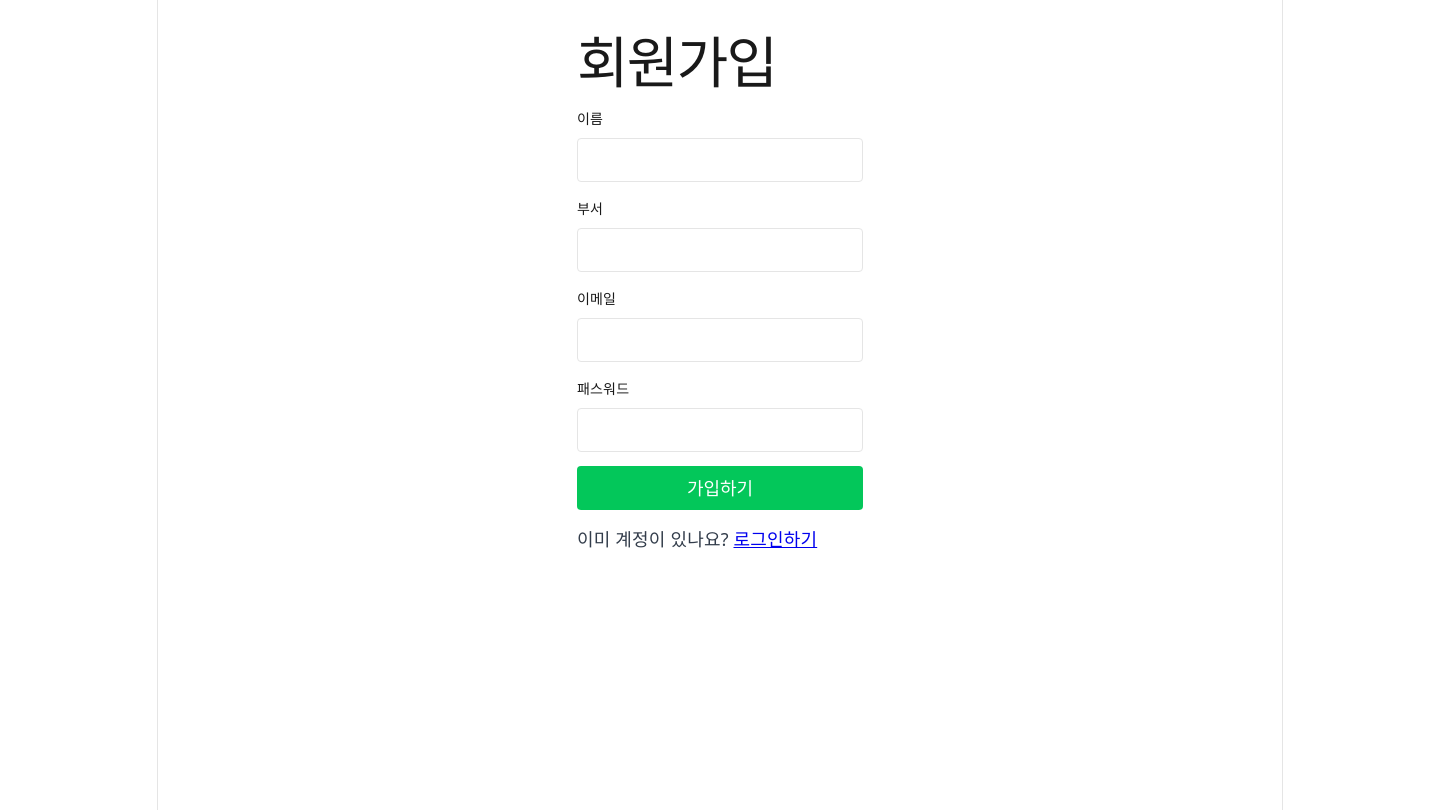
Test case: SignupPage › 400 에러 발생 시 alert 영역에 에러 메시지가 노출된다
Type "홍길동" into the field labelled "이름".
click(720, 160); type("홍길동")  # box [577,138,863,182]
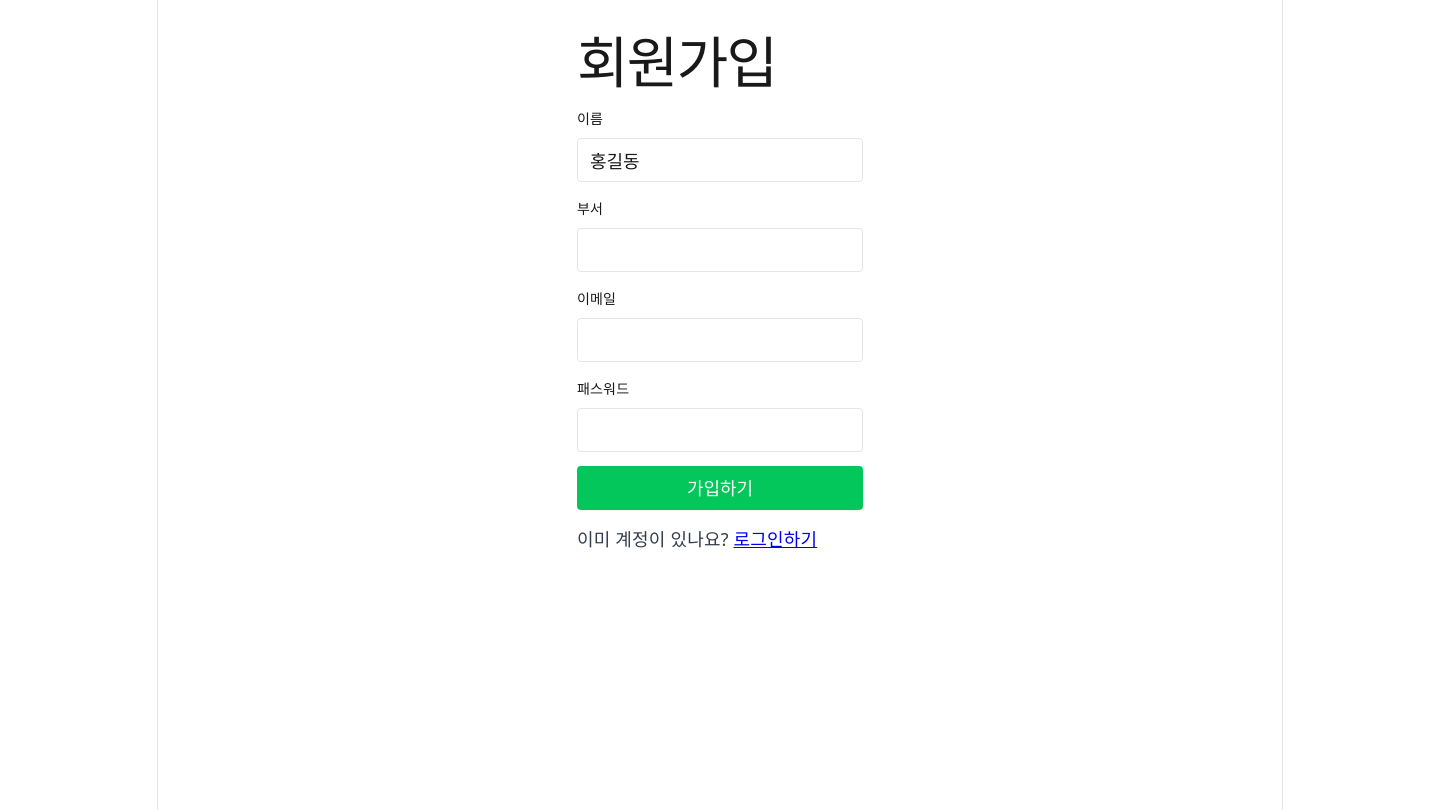
Type "개발팀" into the field labelled "부서".
click(720, 250); type("개발팀")  # box [577,228,863,272]
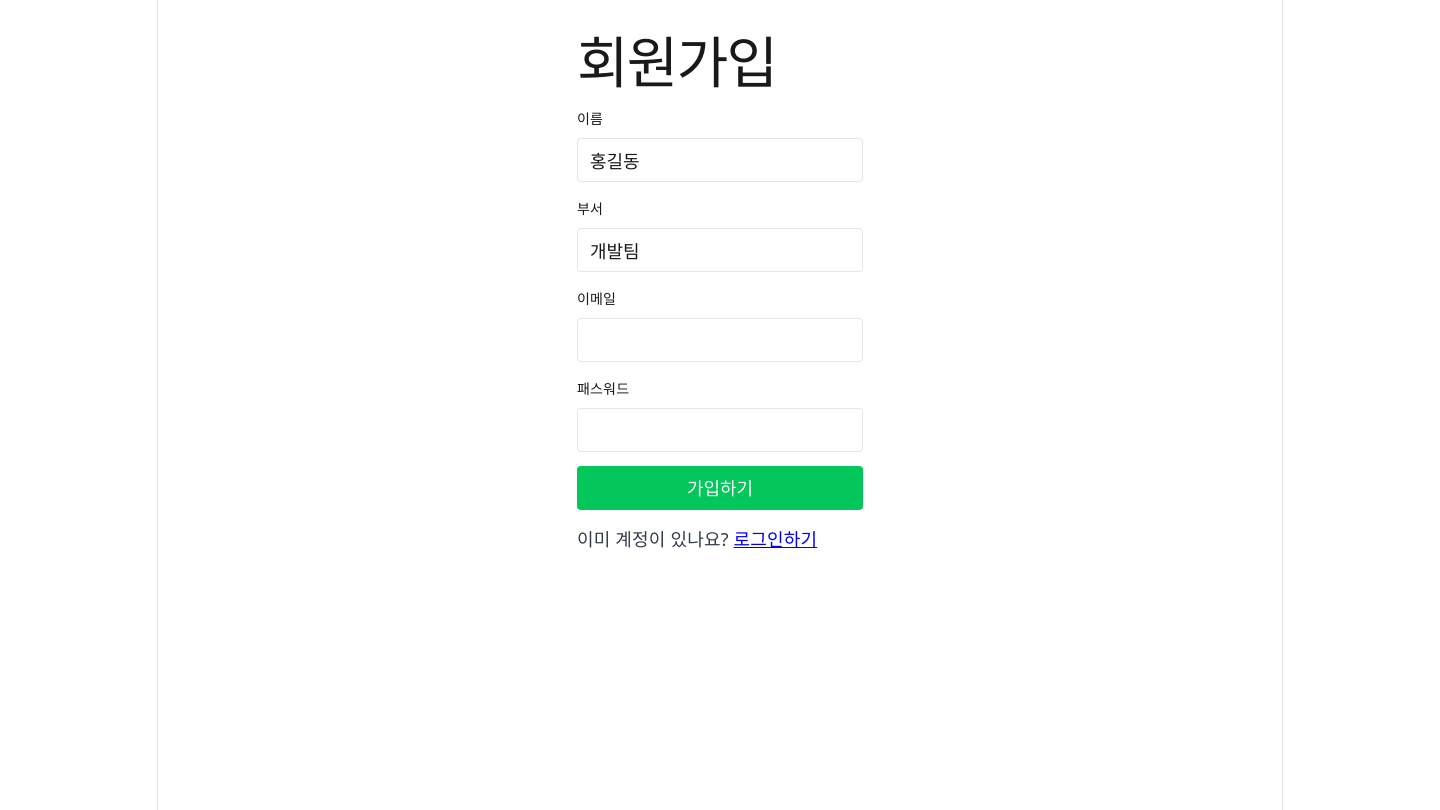
Type "hong@test.com" into the field labelled "이메일".
click(720, 340); type("hong@test.com")  # box [577,318,863,362]
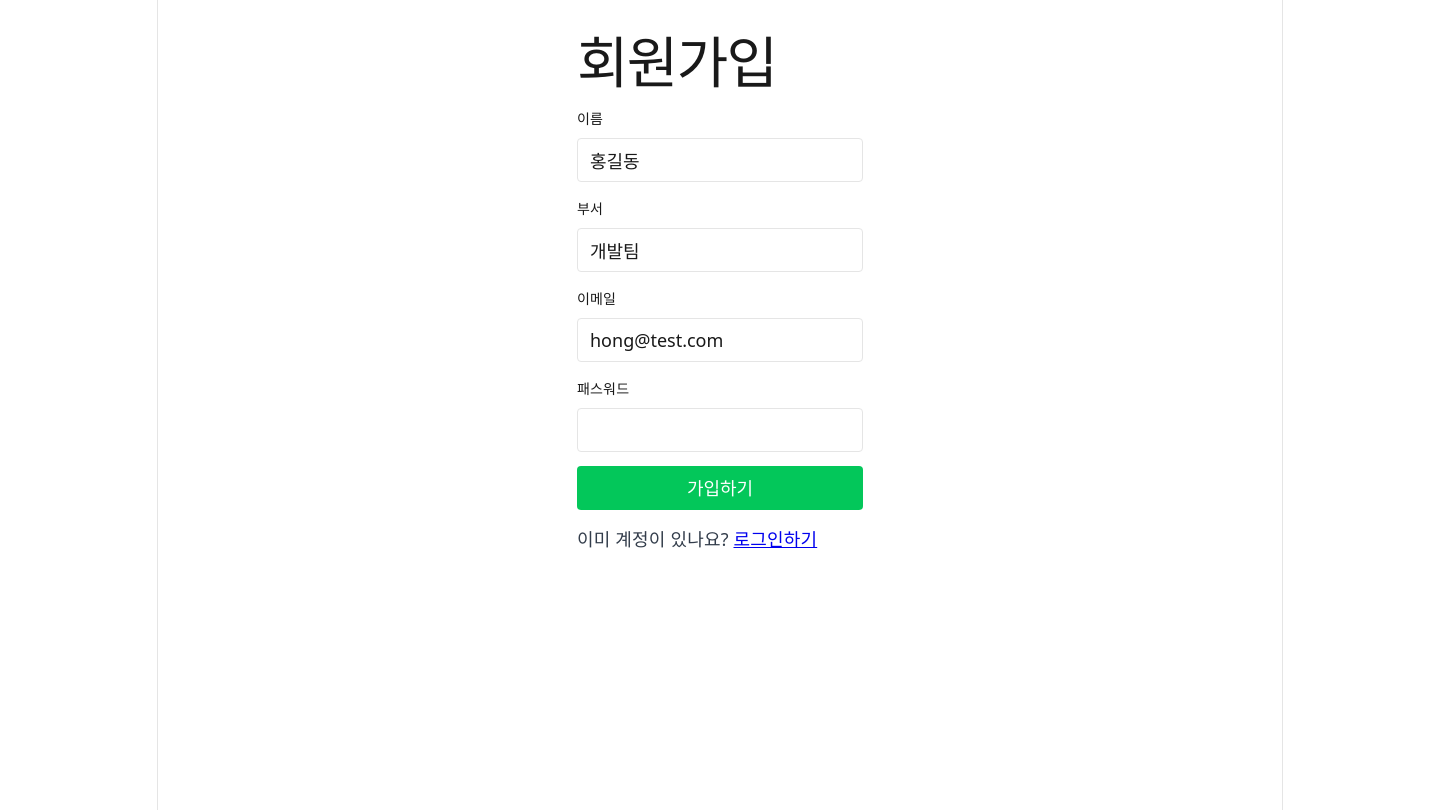
Type "password123" into the password field labelled "패스워드".
click(720, 430); type("password123")  # box [577,408,863,452]
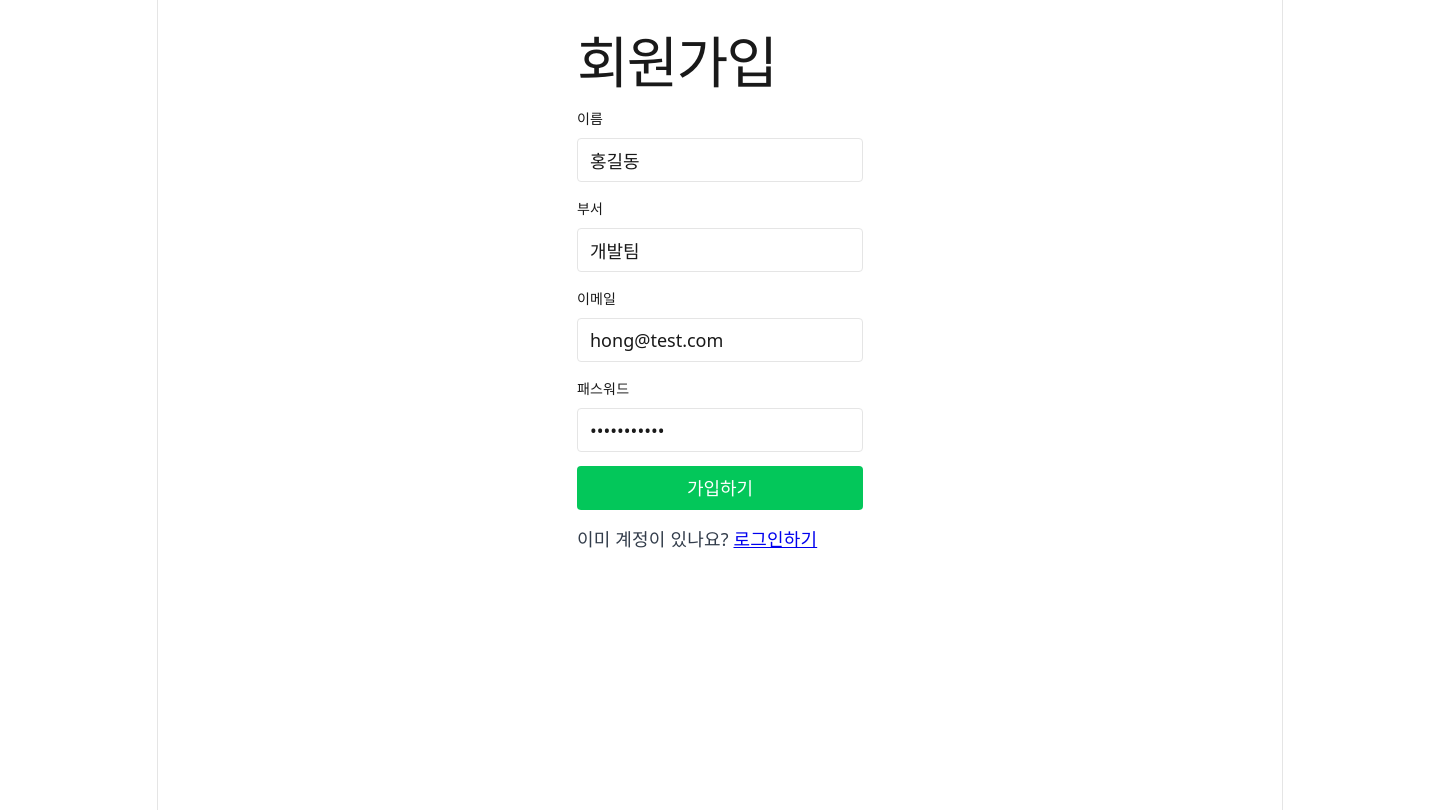
Click the button "가입하기".
click(720, 488)  # box [577,466,863,510]
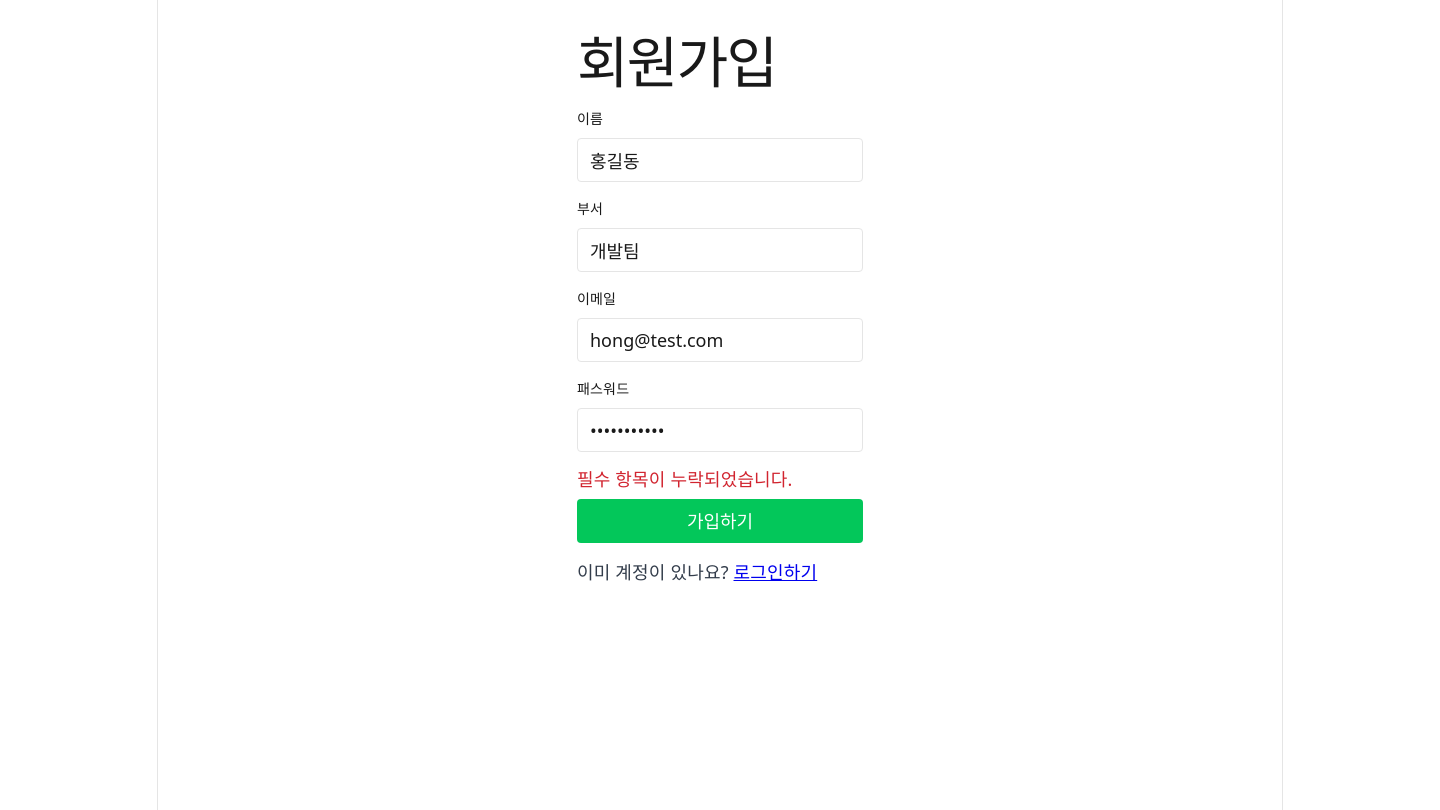
Check: the message reads "필수 항목이 누락되었습니다.", box [577,468,793,492]
